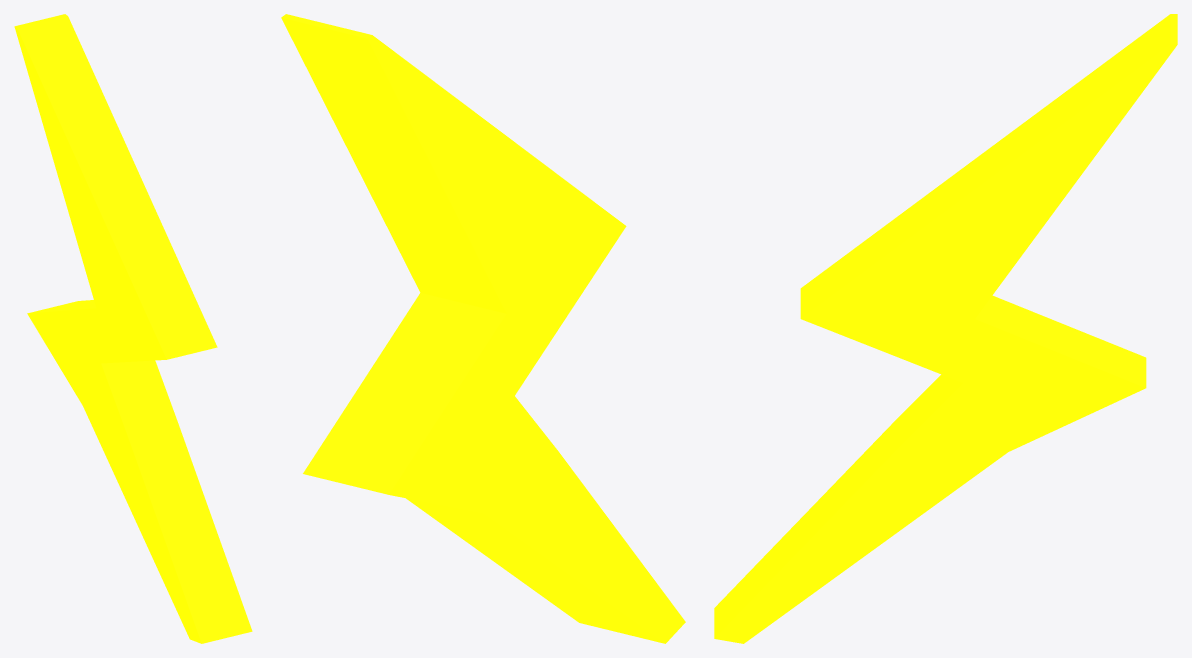
Rendered from lightning.fbx.
3 views of the same model, side by side, from view 1: azimuth 30°, elevation 25°; view 2: azimuth 150°, elevation 25°; view 3: azimuth 270°, elevation 25° (orthographic). The views are drawn at different scales.
Parts seen in each view (by area): view 1: Lightning; view 2: Lightning; view 3: Lightning.
Boxes of the visible parts, left/top/right/bottom form: Lightning: left=14, top=14, right=252, bottom=643; Lightning: left=281, top=14, right=685, bottom=643; Lightning: left=714, top=14, right=1177, bottom=643.
Size of the model in its own units: 25.94 by 237 by 166.
